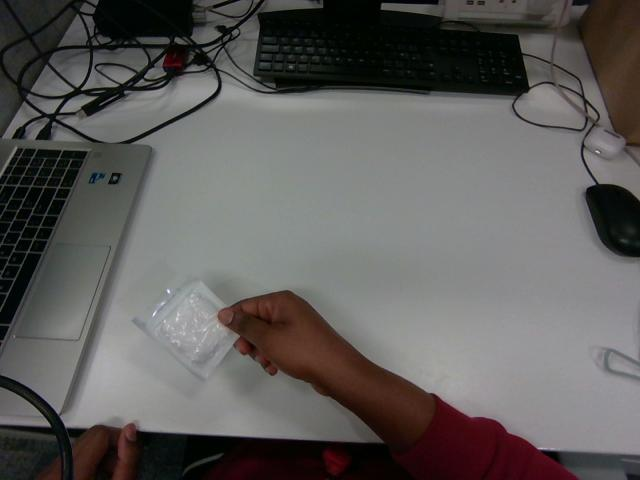gauze: (133, 280, 237, 378)
